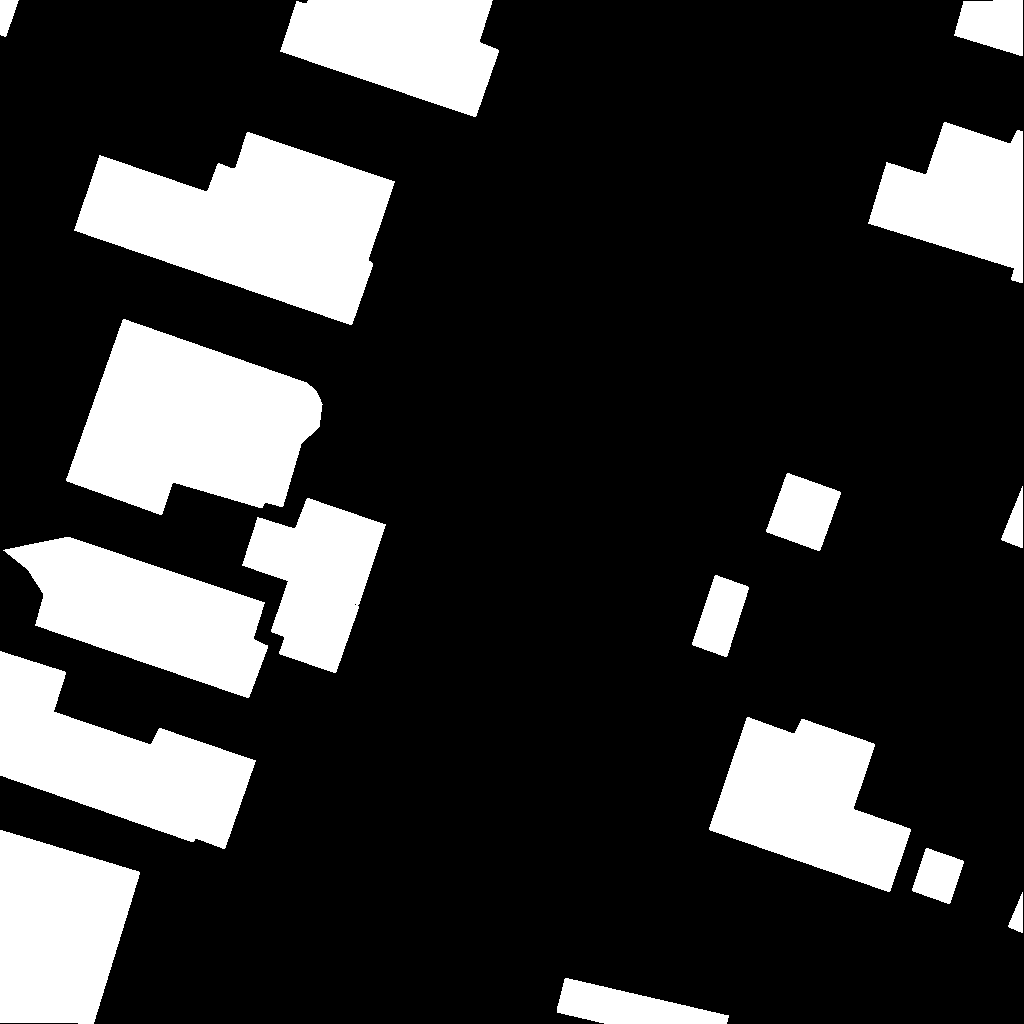building: (74, 132, 396, 326), (0, 651, 257, 850), (66, 319, 323, 516), (3, 537, 269, 699), (709, 717, 912, 893), (0, 830, 141, 1024), (280, 0, 500, 118), (868, 122, 1024, 284), (242, 498, 387, 606), (271, 581, 360, 674), (557, 978, 730, 1024), (766, 473, 842, 552), (692, 575, 750, 658), (954, 0, 1024, 57), (912, 848, 965, 905), (1001, 485, 1024, 549), (0, 0, 20, 38), (1008, 891, 1024, 934)
